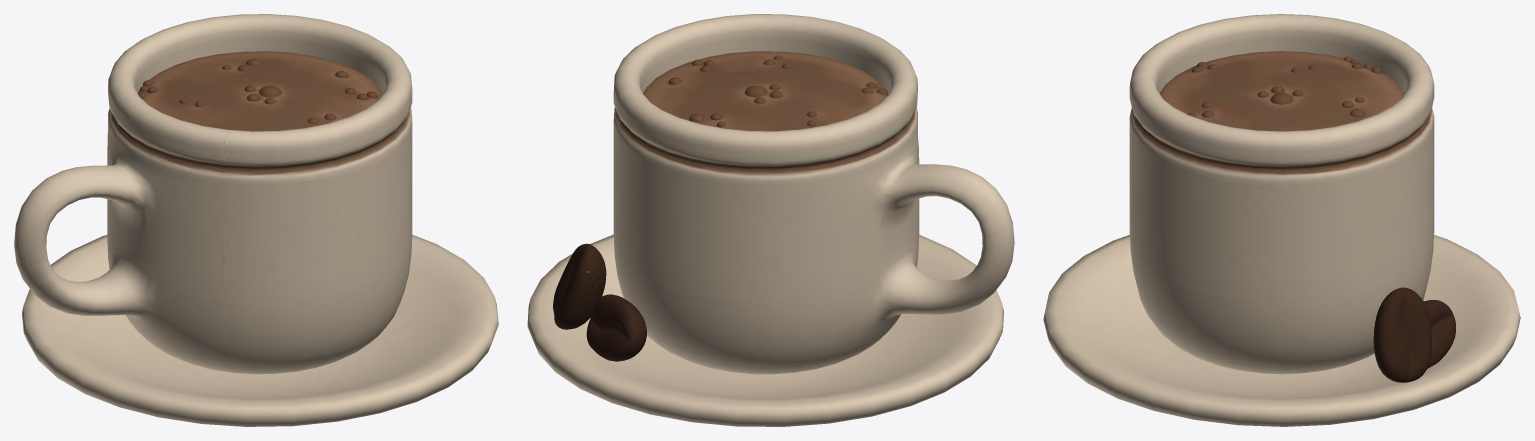
The model's file is coffee-C.glb.
3 renders of one model, left to right at view 1: azimuth 30°, elevation 25°; view 2: azimuth 150°, elevation 25°; view 3: azimuth 270°, elevation 25°, orthographic.
Parts seen in each view (by area): view 1: coffee-cup-icon-005; view 2: coffee-cup-icon-005; view 3: coffee-cup-icon-005.
Part boxes in pixels (<box>): coffee-cup-icon-005: <box>14,14,498,426</box>; coffee-cup-icon-005: <box>527,14,1014,426</box>; coffee-cup-icon-005: <box>1043,14,1520,426</box>.
Size of the model in its own units: 0.6777 by 0.427 by 0.6199.
1 material, 1 textured.
